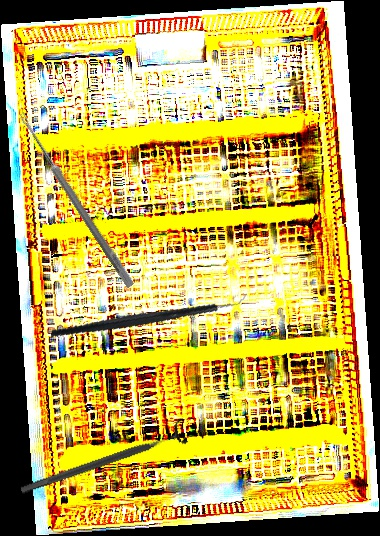Chopper: (50, 254, 248, 374)
Fixation Ring: (16, 418, 189, 503)
Surgical Spoon: (16, 111, 136, 289)
